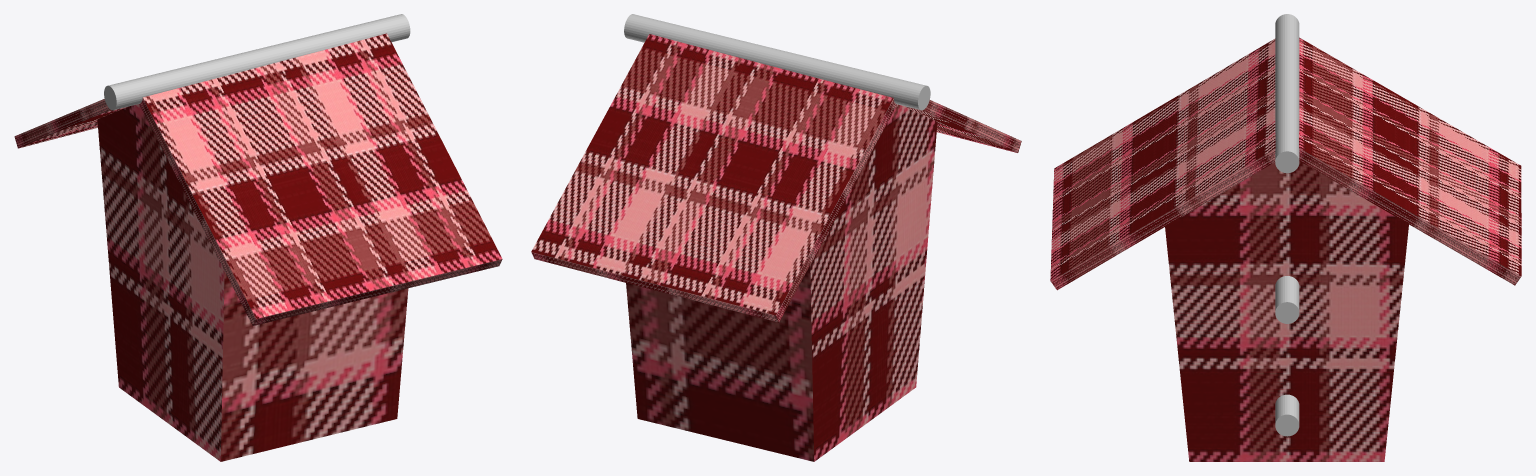
File: homeK.dae
3 views of the same model, side by side, from view 1: azimuth 30°, elevation 25°; view 2: azimuth 150°, elevation 25°; view 3: azimuth 270°, elevation 25° (orthographic). The views are drawn at different scales.
Parts seen in each view (by area): view 1: 큐브_002, 큐브, 실린더, 큐브_001; view 2: 큐브_001, 큐브, 실린더, 큐브_002; view 3: 큐브, 큐브_002, 큐브_001, 실린더, 실린더_001, 실린더_002.
Part boxes in pixels (x1=…): 큐브_002: x1=139, y1=33, x2=502, y2=325; 큐브: x1=97, y1=104, x2=408, y2=461; 실린더: x1=104, y1=14, x2=410, y2=110; 큐브_001: x1=14, y1=99, x2=126, y2=148; 큐브_001: x1=531, y1=34, x2=897, y2=322; 큐브: x1=626, y1=104, x2=937, y2=461; 실린더: x1=624, y1=14, x2=930, y2=110; 큐브_002: x1=902, y1=100, x2=1021, y2=152; 큐브: x1=1165, y1=161, x2=1408, y2=461; 큐브_002: x1=1050, y1=38, x2=1275, y2=290; 큐브_001: x1=1299, y1=37, x2=1521, y2=285; 실린더: x1=1275, y1=14, x2=1299, y2=173; 실린더_001: x1=1275, y1=276, x2=1299, y2=323; 실린더_002: x1=1275, y1=394, x2=1299, y2=436.
Bounding box in the file's own units: 2.43 × 3.48 × 2.76.
2 materials, 1 textured.
